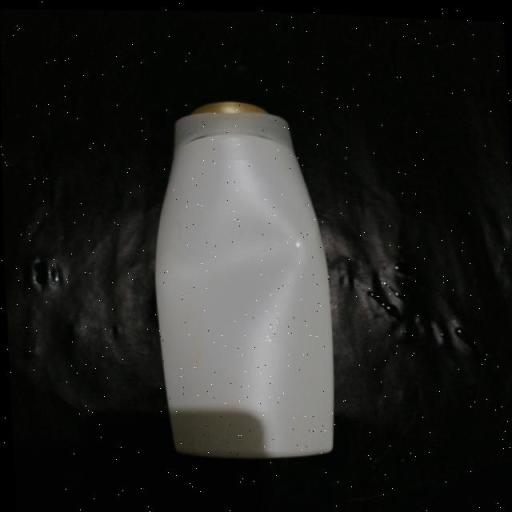plastic: (120, 70, 386, 484)
